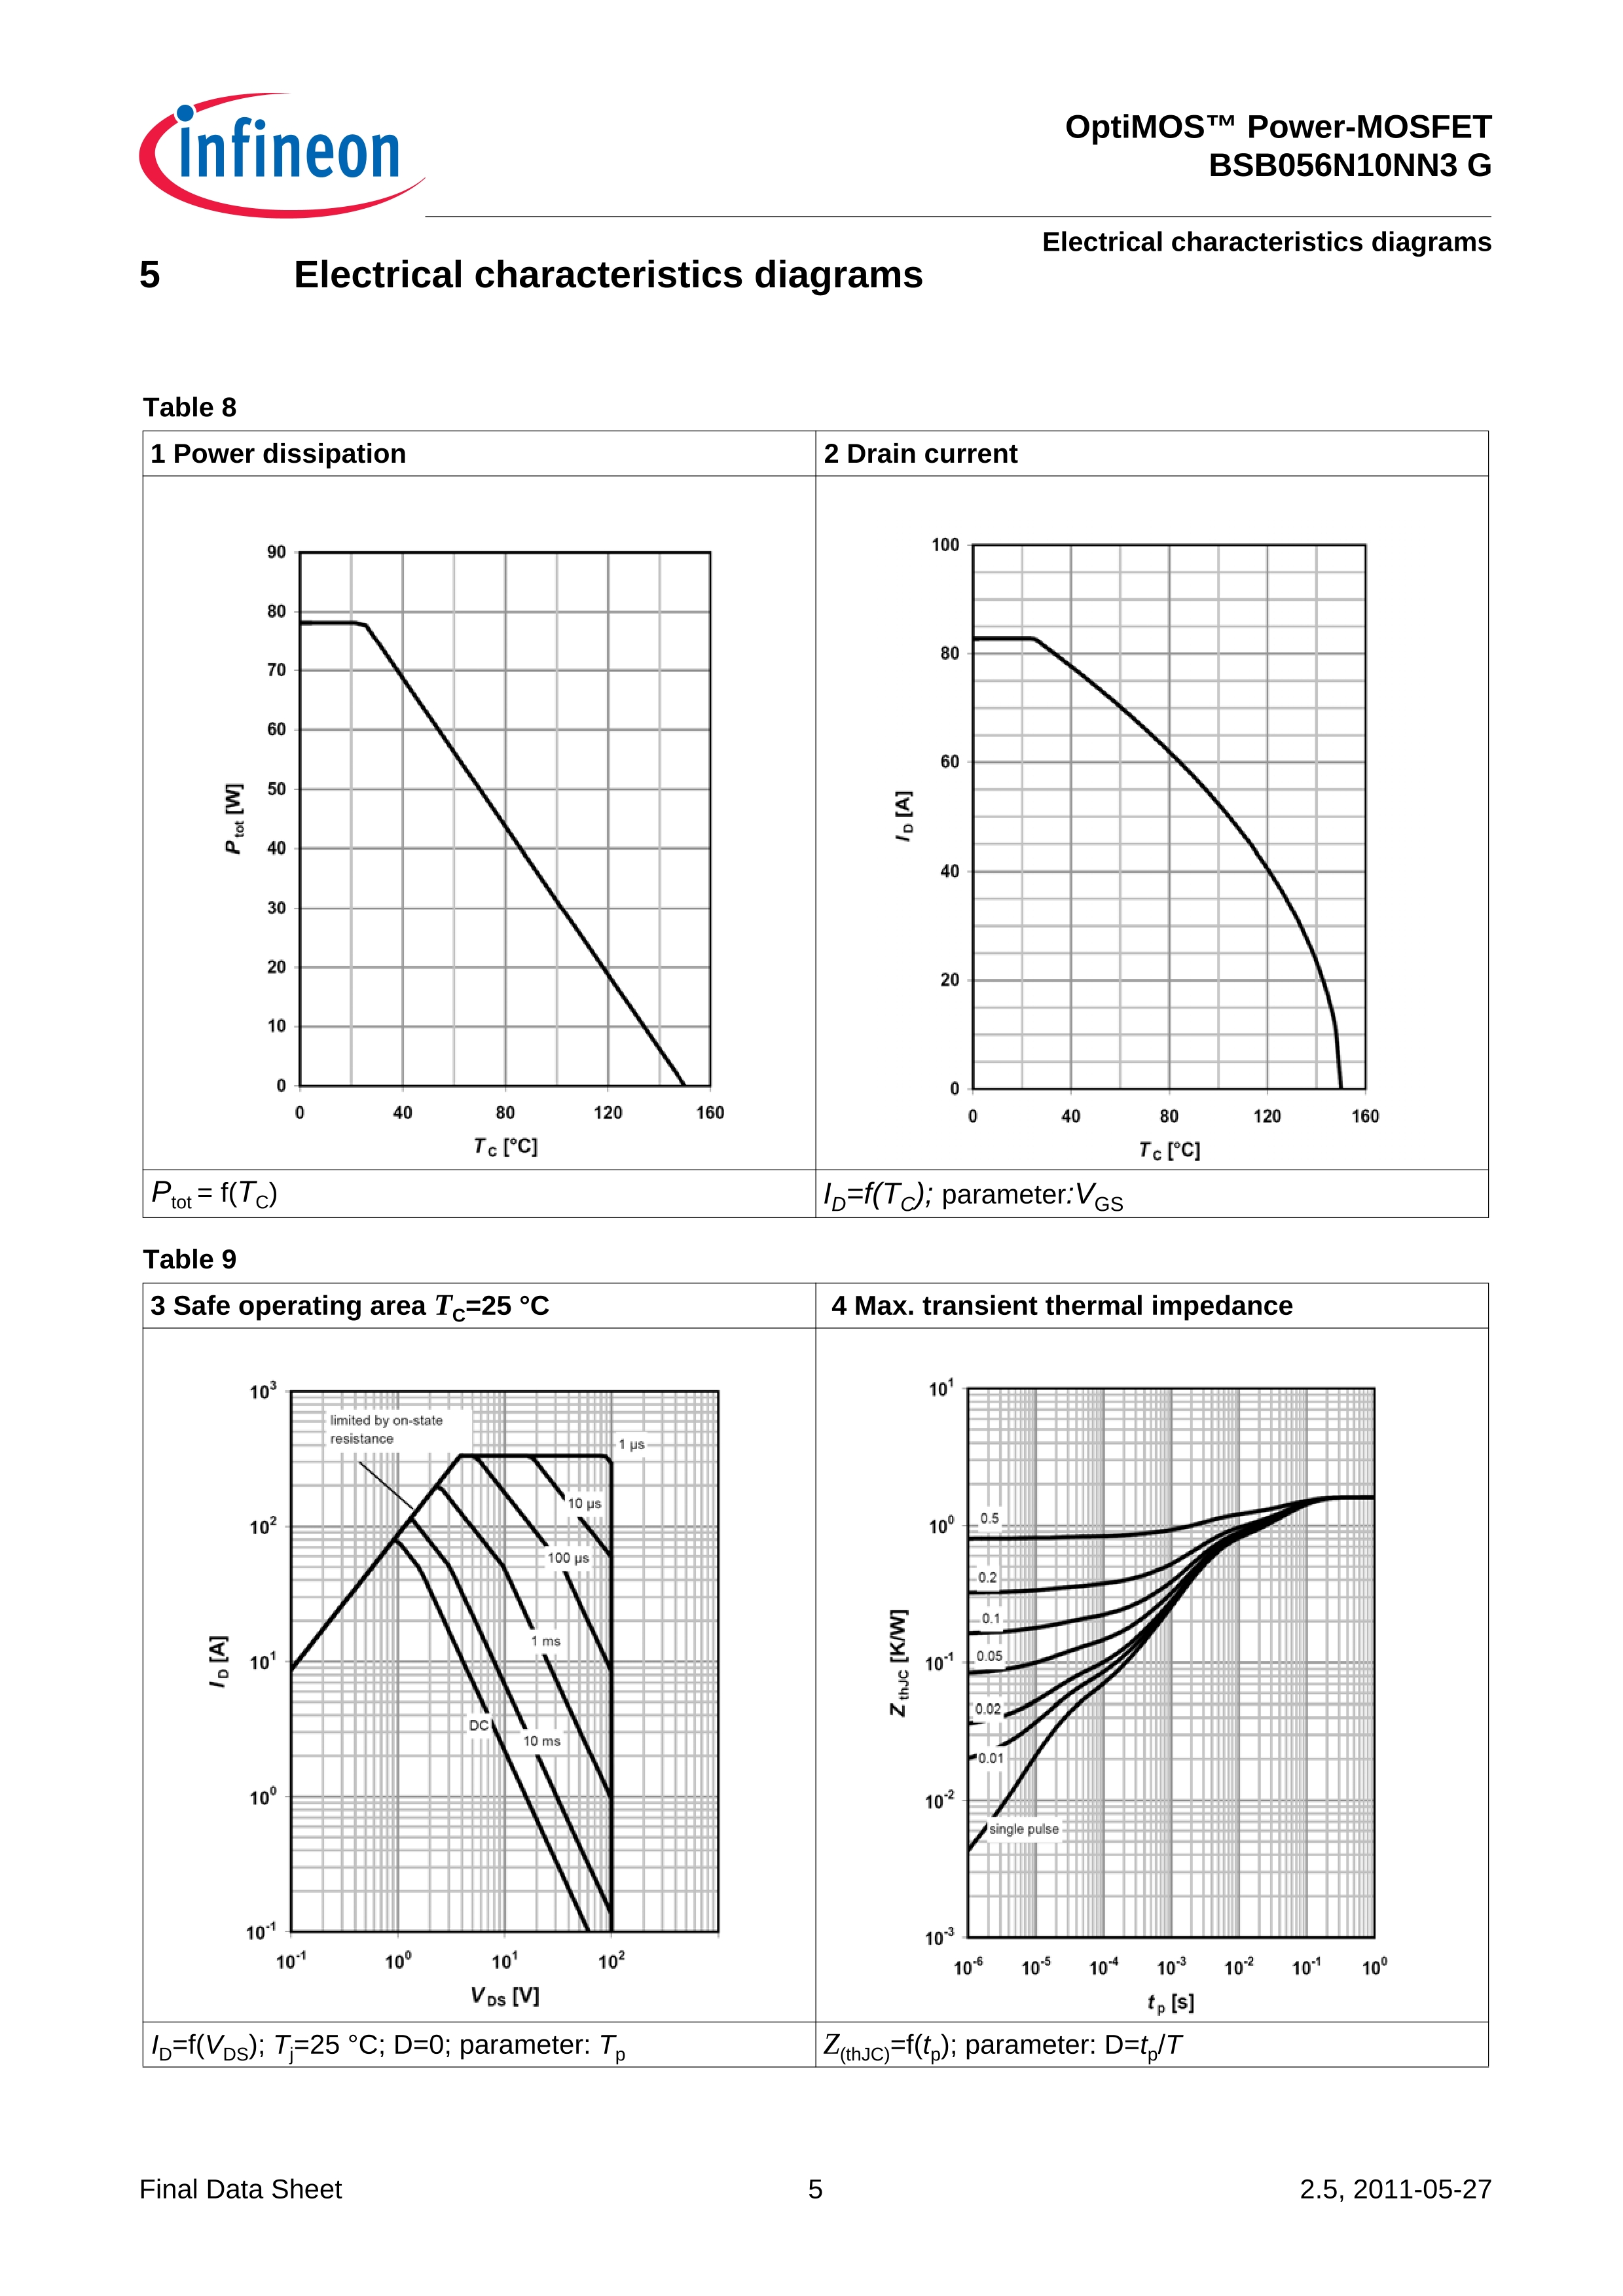diagram: (102, 1232, 817, 2066), (126, 384, 817, 1216), (815, 1280, 1490, 2068), (817, 430, 1488, 1218)
